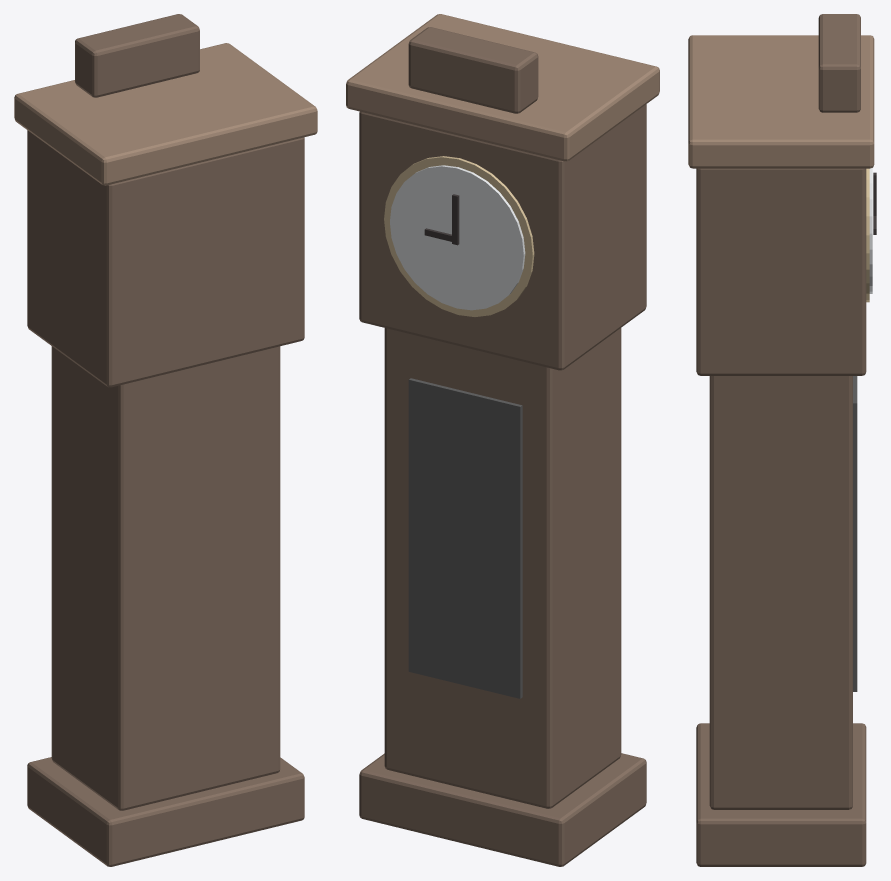
The model's file is GrandfatherClock.glb.
The picture shows the model from 3 angles, left to right: view 1: azimuth 30°, elevation 25°; view 2: azimuth 150°, elevation 25°; view 3: azimuth 270°, elevation 25°; orthographic projection. The views are drawn at different scales.
Visible parts, largest first — view 1: GrandfatherClock_DarkWood, GrandfatherClock_Wood; view 2: GrandfatherClock_DarkWood, GrandfatherClock_Glass, GrandfatherClock_Wood, GrandfatherClock_Porcelain, GrandfatherClock_Brass, GrandfatherClock_Black; view 3: GrandfatherClock_DarkWood, GrandfatherClock_Wood, GrandfatherClock_Glass, GrandfatherClock_Brass, GrandfatherClock_Porcelain.
Part boxes in pixels (x1,y1,x2,y2): GrandfatherClock_DarkWood: (27,14,304,866); GrandfatherClock_Wood: (14,43,317,185); GrandfatherClock_DarkWood: (359,27,646,866); GrandfatherClock_Glass: (408,378,522,698); GrandfatherClock_Wood: (346,14,659,161); GrandfatherClock_Porcelain: (390,165,525,310); GrandfatherClock_Brass: (384,156,534,316); GrandfatherClock_Black: (424,194,459,245); GrandfatherClock_DarkWood: (696,14,866,866); GrandfatherClock_Wood: (688,35,874,168); GrandfatherClock_Glass: (853,376,857,691); GrandfatherClock_Brass: (866,168,869,302); GrandfatherClock_Porcelain: (869,168,872,293).
Size of the model in its own units: 2.4 by 8.1 by 1.77.
